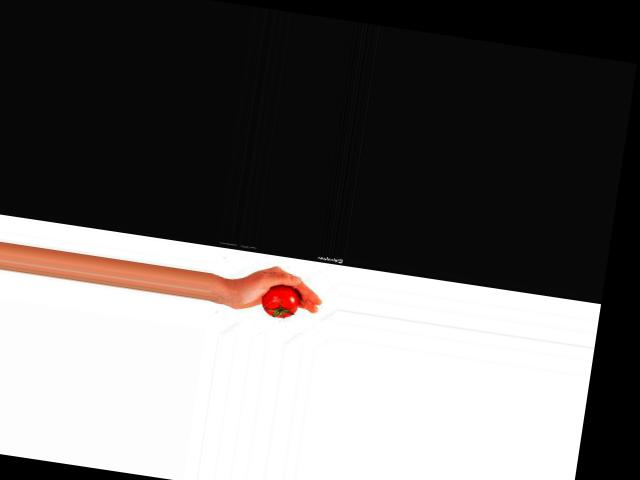tomato: (258, 282, 300, 319)
